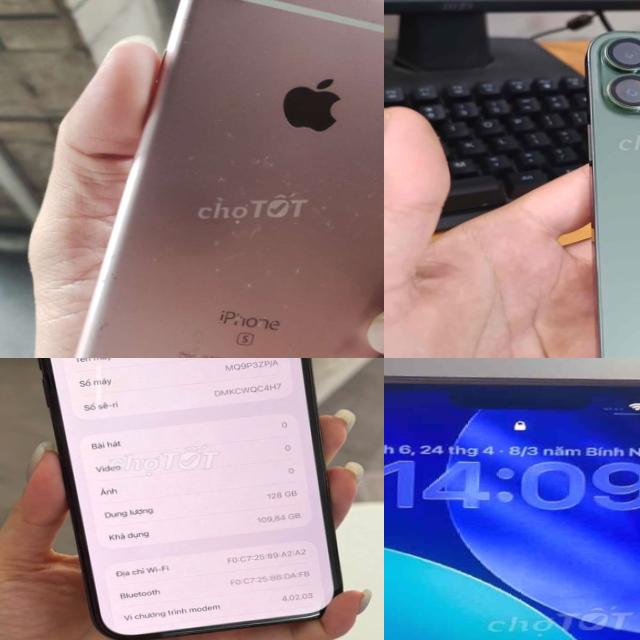gen_12_13: (384, 364, 640, 640), (584, 21, 640, 358)
gen_14: (16, 358, 345, 640)
gen_6: (73, 0, 384, 358)
scratch: (202, 217, 348, 318), (308, 170, 384, 239), (347, 0, 384, 113), (216, 0, 311, 23), (246, 148, 296, 184), (217, 114, 250, 150)
